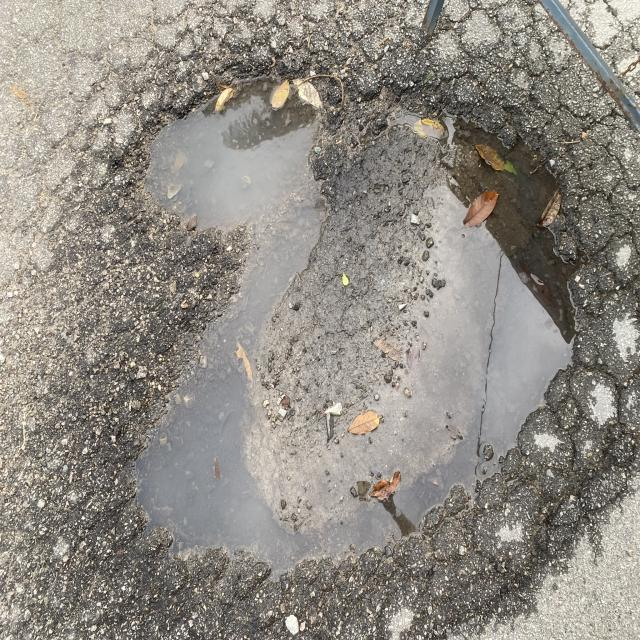pothole: (90, 0, 623, 613)
